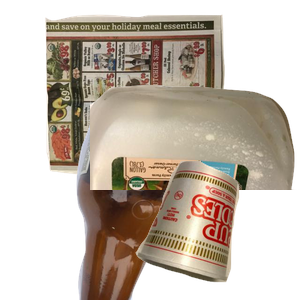glass: (60, 120, 300, 300)
paper: (42, 12, 260, 185)
plastic: (90, 82, 300, 262)
trash: (133, 158, 300, 300)
